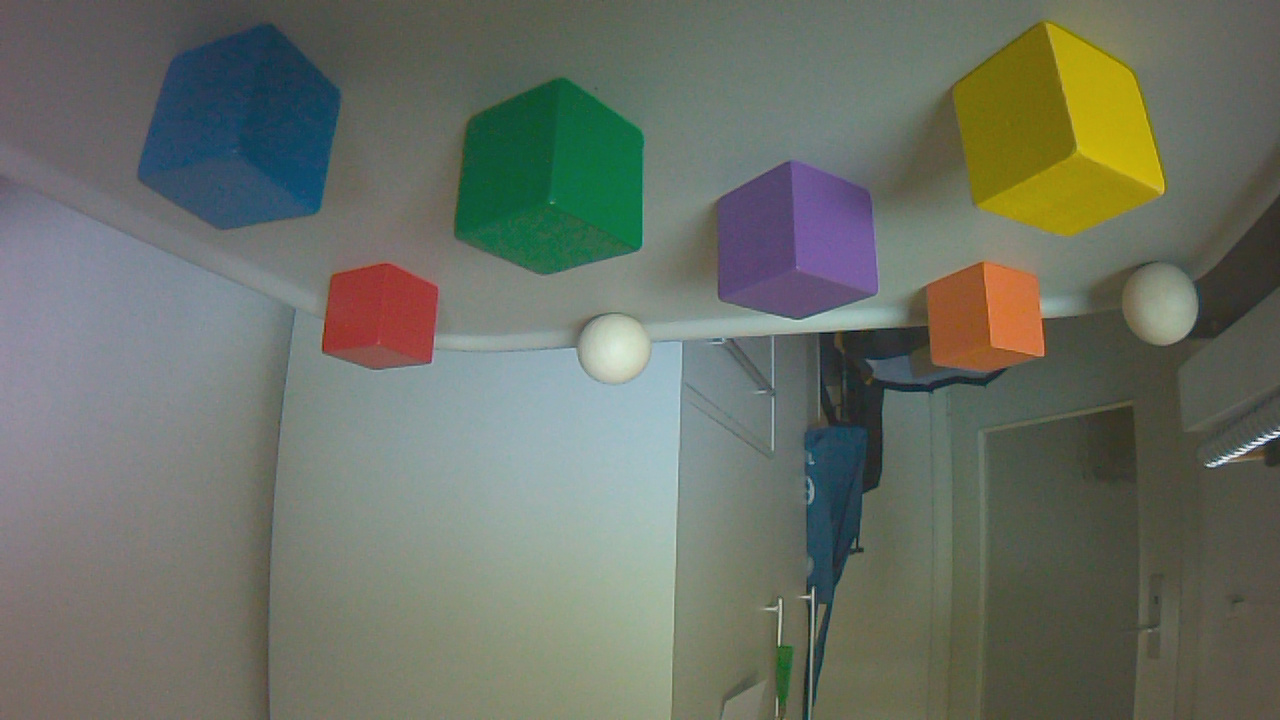ball: (1126, 265, 1204, 353), (581, 315, 656, 391)
cube_blue: (140, 26, 348, 239)
cube_green: (455, 79, 652, 284)
cube_orange: (928, 264, 1050, 379)
cube_purple: (719, 163, 885, 327)
cube_red: (325, 267, 447, 377)
cube_yellow: (953, 25, 1172, 246)
